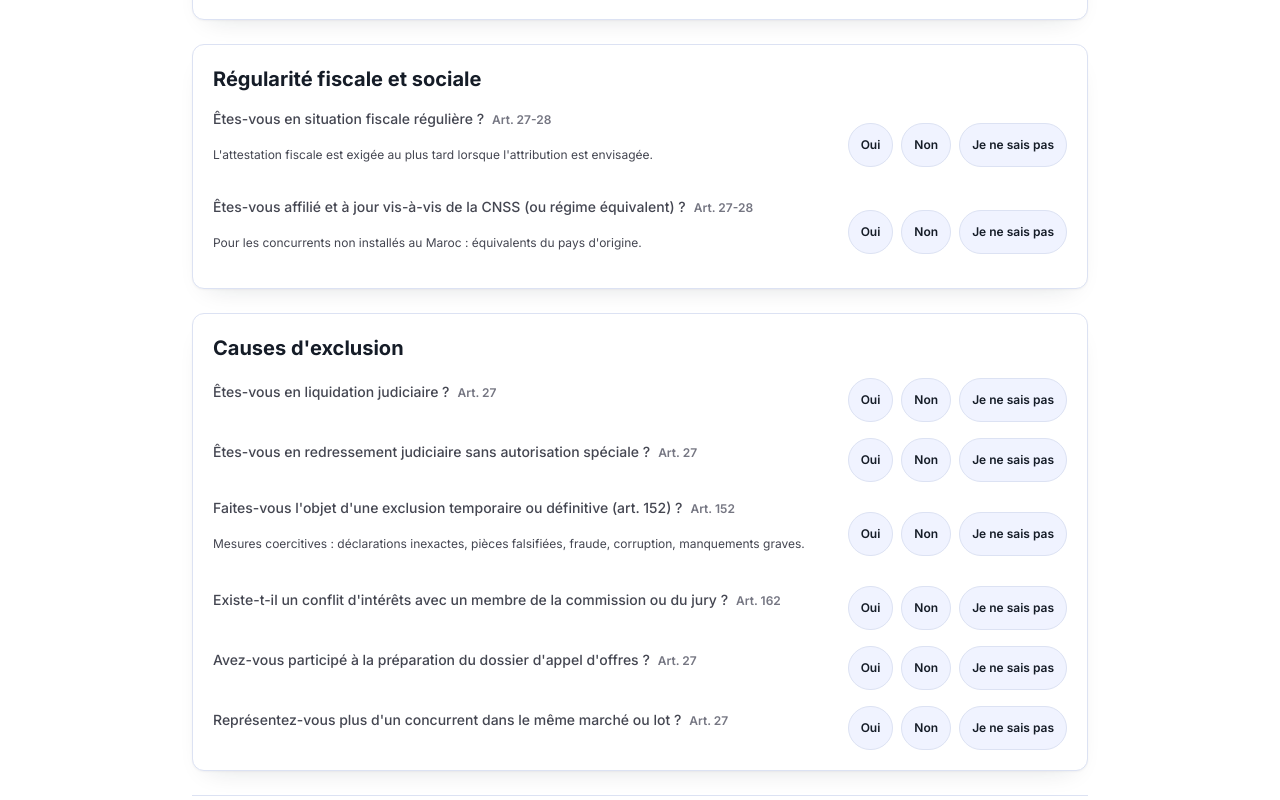
Test: Eligibility › marks the user non eligible when a liquidation exclusion applies
The image size is (1280, 800).
(page scrolled)
Click the button "Oui" in the row of "Êtes-vous en liquidation judiciaire ?". click: x=870, y=400
box: [848,378,893,422]
(page scrolled)
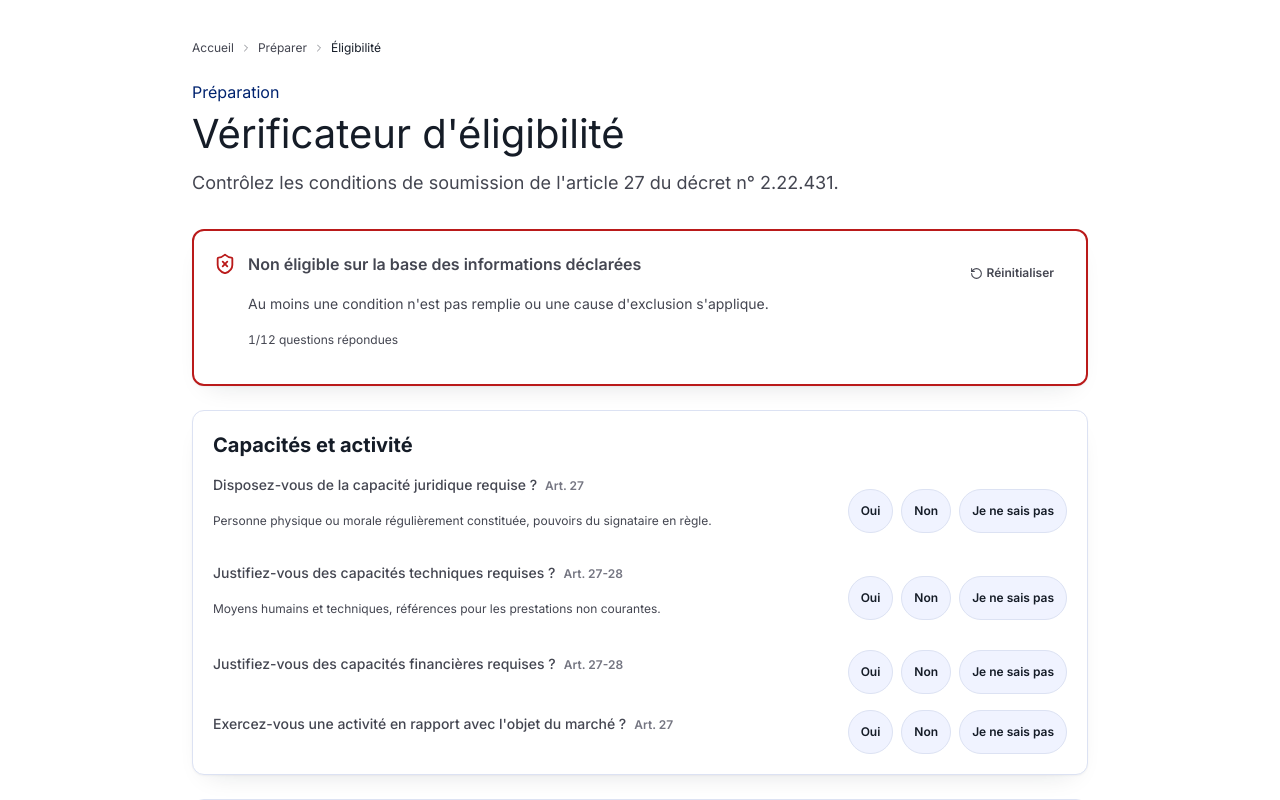
Now the text "Non éligible sur la base des informations déclarées" is shown, box [248,254,641,274]
